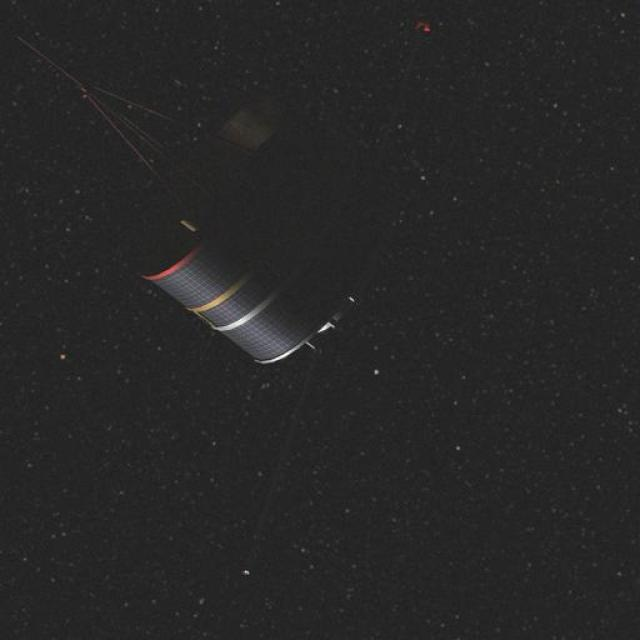double_start: (60, 59, 397, 383)
